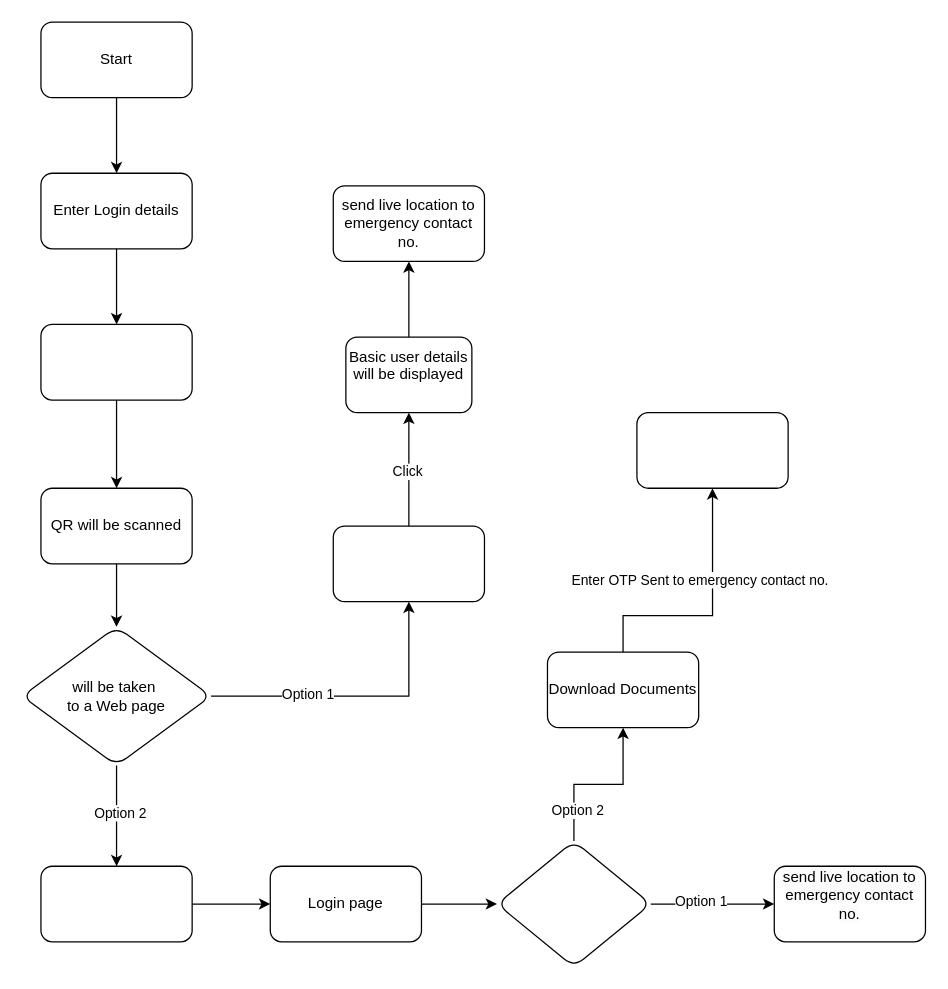
Image size: 948x989. Some labels were removed from this diagram. Each missing label, with the centre of its shape:
"All details will be displayed" belongs at [573,903].
"Authorize" belongs at [116,903].
"Documents will be displayed" belongs at [712,449].
"Emergency" belongs at [408,563].
"QR is generated" belongs at [116,361].
